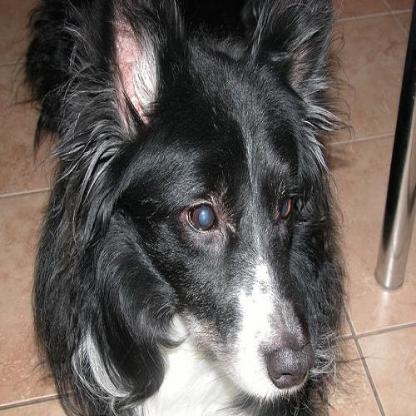Border_collie: (17, 0, 350, 414)
